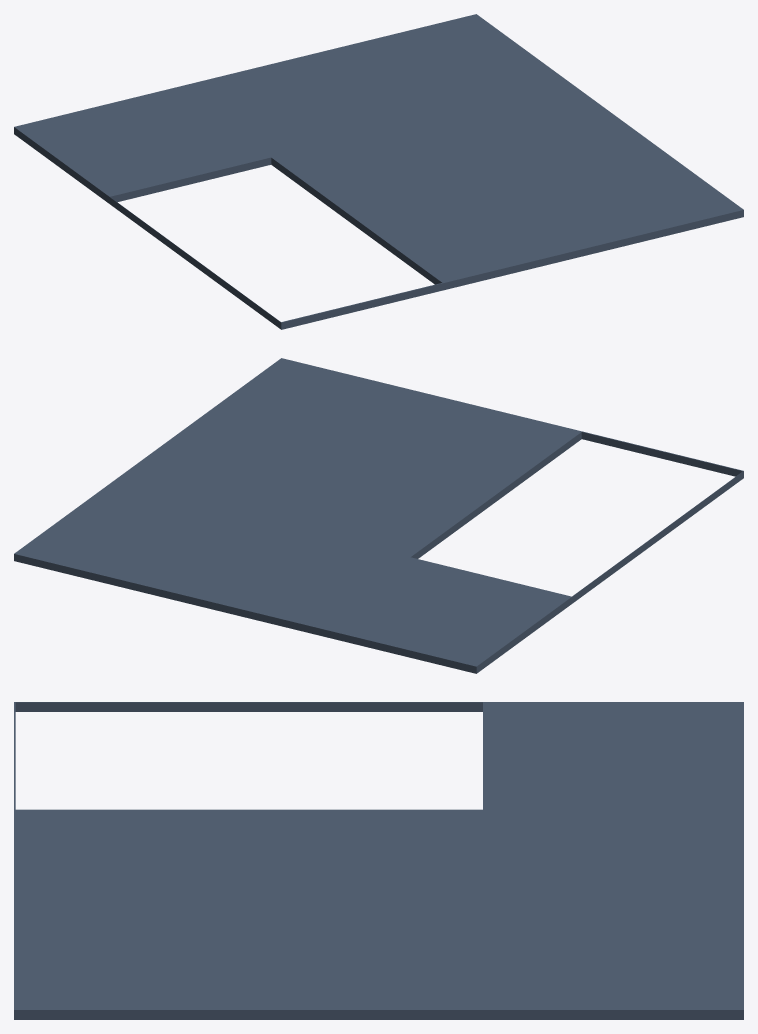
The model's file is floor_geometry.obj.
3 views of the same model, one above another, from view 1: azimuth 30°, elevation 25°; view 2: azimuth 150°, elevation 25°; view 3: azimuth 270°, elevation 25° (orthographic). The views are drawn at different scales.
Visible parts, largest first — view 1: Floor_001_l_service_interchange_sluzhebnyy_vestibyul_floor, Floor_017_l_service_interchange_schit_floor, Floor_013_l_service_interchange_shlyuz_2_floor, Floor_010_l_service_interchange_shlyuz_1_floor, Floor_002_l_service_interchange_lestnica_floor, Floor_004_l_service_interchange_lestnica_floor, Floor_003_l_service_interchange_lestnica_floor, Floor_007_l_service_interchange_lestnica_floor, Floor_008_l_service_interchange_lestnica_floor, Floor_012_l_service_interchange_shlyuz_2_floor, Floor_016_l_service_interchange_schit_floor, Floor_014_l_service_interchange_shlyuz_2_floor; view 2: Floor_001_l_service_interchange_sluzhebnyy_vestibyul_floor, Floor_017_l_service_interchange_schit_floor, Floor_013_l_service_interchange_shlyuz_2_floor, Floor_010_l_service_interchange_shlyuz_1_floor, Floor_002_l_service_interchange_lestnica_floor, Floor_004_l_service_interchange_lestnica_floor, Floor_008_l_service_interchange_lestnica_floor, Floor_007_l_service_interchange_lestnica_floor; view 3: Floor_001_l_service_interchange_sluzhebnyy_vestibyul_floor, Floor_017_l_service_interchange_schit_floor, Floor_010_l_service_interchange_shlyuz_1_floor, Floor_013_l_service_interchange_shlyuz_2_floor, Floor_002_l_service_interchange_lestnica_floor, Floor_009_l_service_interchange_shlyuz_1_floor, Floor_011_l_service_interchange_shlyuz_1_floor, Floor_012_l_service_interchange_shlyuz_2_floor, Floor_014_l_service_interchange_shlyuz_2_floor, Floor_015_l_service_interchange_schit_floor, Floor_016_l_service_interchange_schit_floor.
Boxes of the visible parts, bbox=[...] form: Floor_001_l_service_interchange_sluzhebnyy_vestibyul_floor: bbox=[14, 14, 571, 203]; Floor_017_l_service_interchange_schit_floor: bbox=[450, 84, 743, 246]; Floor_013_l_service_interchange_shlyuz_2_floor: bbox=[363, 179, 611, 288]; Floor_010_l_service_interchange_shlyuz_1_floor: bbox=[277, 116, 524, 218]; Floor_002_l_service_interchange_lestnica_floor: bbox=[109, 196, 281, 329]; Floor_004_l_service_interchange_lestnica_floor: bbox=[281, 284, 437, 329]; Floor_003_l_service_interchange_lestnica_floor: bbox=[110, 158, 266, 202]; Floor_007_l_service_interchange_lestnica_floor: bbox=[271, 157, 356, 227]; Floor_008_l_service_interchange_lestnica_floor: bbox=[357, 220, 443, 290]; Floor_012_l_service_interchange_shlyuz_2_floor: bbox=[357, 219, 448, 290]; Floor_016_l_service_interchange_schit_floor: bbox=[531, 176, 621, 247]; Floor_014_l_service_interchange_shlyuz_2_floor: bbox=[526, 178, 616, 249]; Floor_001_l_service_interchange_sluzhebnyy_vestibyul_floor: bbox=[14, 484, 571, 673]; Floor_017_l_service_interchange_schit_floor: bbox=[110, 358, 402, 513]; Floor_013_l_service_interchange_shlyuz_2_floor: bbox=[328, 390, 576, 492]; Floor_010_l_service_interchange_shlyuz_1_floor: bbox=[242, 453, 490, 555]; Floor_002_l_service_interchange_lestnica_floor: bbox=[572, 471, 743, 603]; Floor_004_l_service_interchange_lestnica_floor: bbox=[586, 432, 743, 476]; Floor_008_l_service_interchange_lestnica_floor: bbox=[496, 432, 581, 501]; Floor_007_l_service_interchange_lestnica_floor: bbox=[410, 494, 496, 558]; Floor_001_l_service_interchange_sluzhebnyy_vestibyul_floor: bbox=[483, 702, 743, 1019]; Floor_017_l_service_interchange_schit_floor: bbox=[14, 928, 483, 1019]; Floor_010_l_service_interchange_shlyuz_1_floor: bbox=[249, 813, 483, 921]; Floor_013_l_service_interchange_shlyuz_2_floor: bbox=[14, 813, 248, 921]; Floor_002_l_service_interchange_lestnica_floor: bbox=[14, 702, 483, 711]; Floor_009_l_service_interchange_shlyuz_1_floor: bbox=[249, 810, 483, 813]; Floor_011_l_service_interchange_shlyuz_1_floor: bbox=[249, 922, 483, 925]; Floor_012_l_service_interchange_shlyuz_2_floor: bbox=[14, 810, 248, 813]; Floor_014_l_service_interchange_shlyuz_2_floor: bbox=[14, 922, 248, 925]; Floor_015_l_service_interchange_schit_floor: bbox=[249, 925, 483, 928]; Floor_016_l_service_interchange_schit_floor: bbox=[14, 925, 248, 928].
Bounding box in the file's own units: 13.33 × 0.2 × 13.36.
